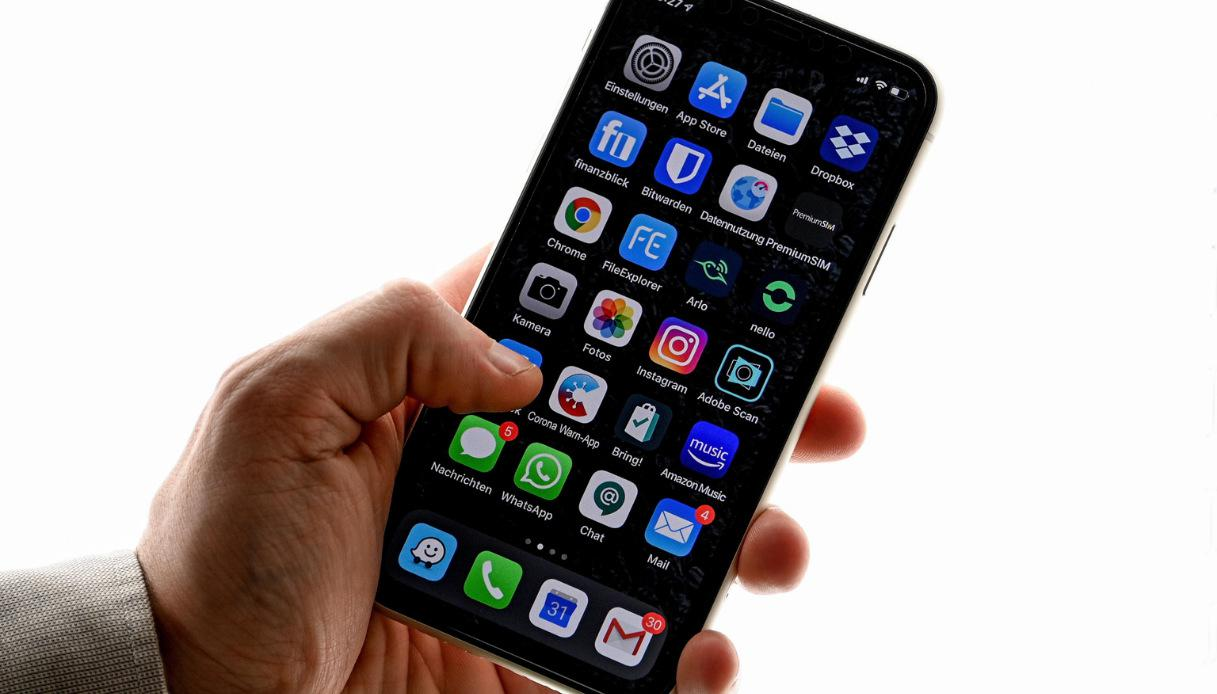Hand: (172, 249, 868, 694)
Smartphone: (380, 7, 930, 656)
